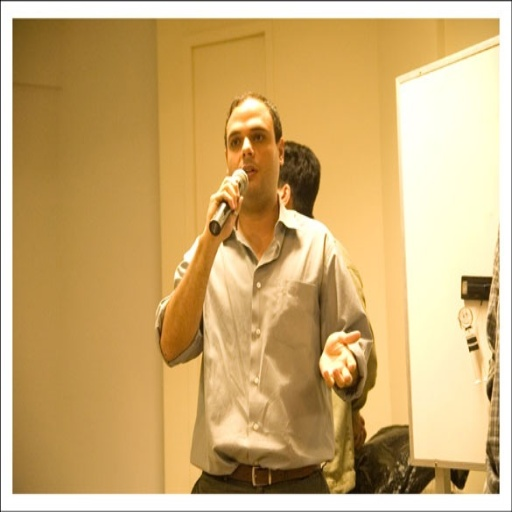hand: (320, 326, 363, 403), (203, 174, 243, 244)
